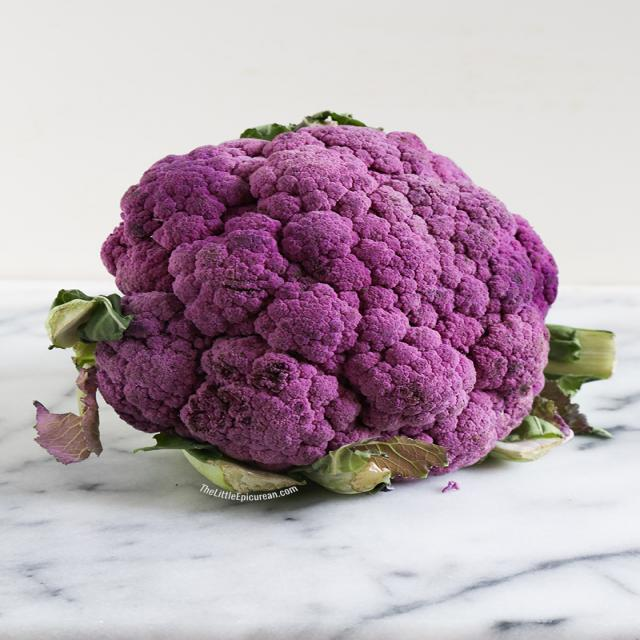Cauliflower head: (64, 62, 602, 538)
